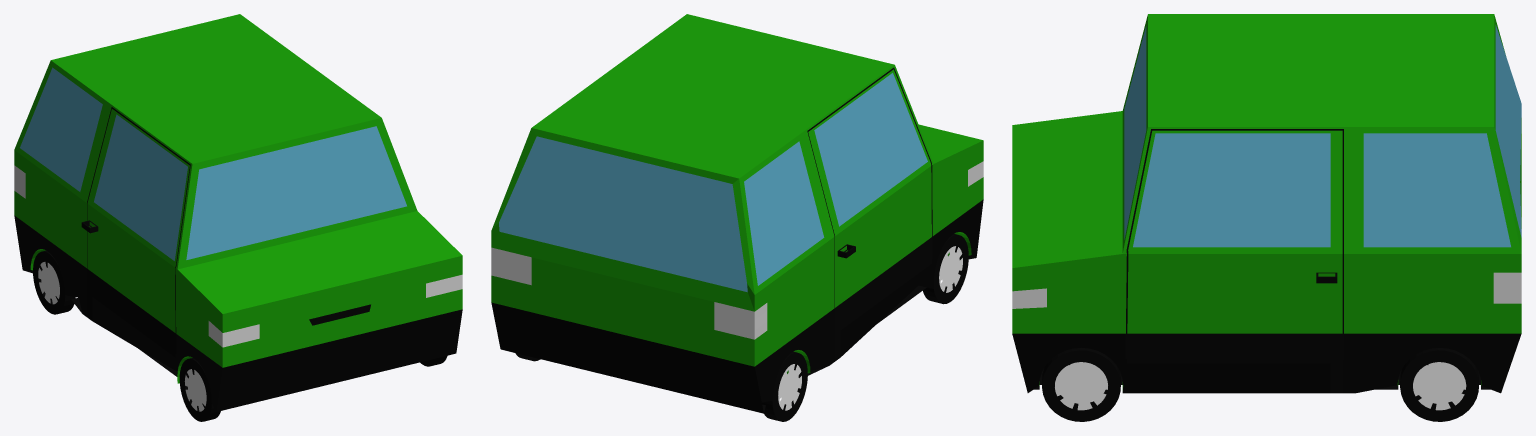
The model's file is buildings_and_cars.fbx.
3 views of the same model, side by side, from view 1: azimuth 30°, elevation 25°; view 2: azimuth 150°, elevation 25°; view 3: azimuth 270°, elevation 25° (orthographic). The views are drawn at different scales.
Parts seen in each view (by area): view 1: body, rearRightWheel, frontRightWheel; view 2: body, rearRightWheel, frontRightWheel; view 3: body, rearLeftWheel, frontLeftWheel.
Boxes of the visible parts, x1=… form: body: x1=14, y1=14, x2=462, y2=411; rearRightWheel: x1=33, y1=250, x2=75, y2=314; frontRightWheel: x1=179, y1=358, x2=220, y2=421; body: x1=491, y1=14, x2=983, y2=413; rearRightWheel: x1=762, y1=351, x2=807, y2=421; frontRightWheel: x1=923, y1=234, x2=968, y2=304; body: x1=1012, y1=14, x2=1521, y2=393; rearLeftWheel: x1=1400, y1=348, x2=1478, y2=421; frontLeftWheel: x1=1042, y1=348, x2=1120, y2=421.
Size of the model in its own units: 51.11 by 43.83 by 72.08.
